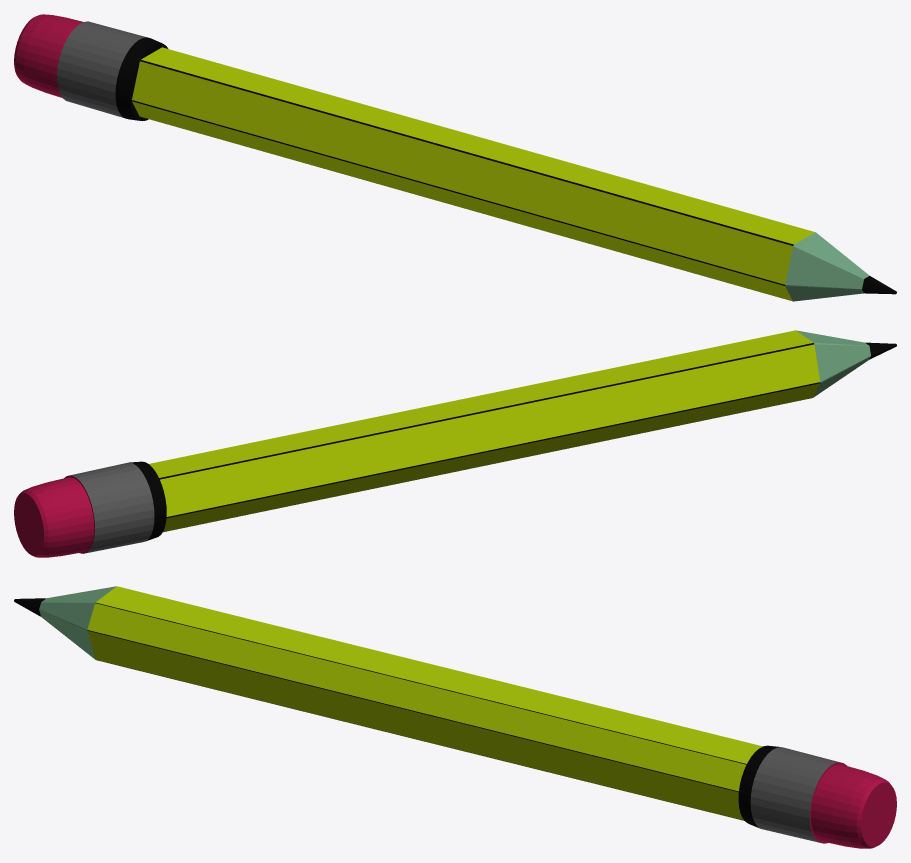
Rendered from Pencil.fbx.
3 views of the same model, one above another, from view 1: azimuth 90°, elevation 25°; view 2: azimuth 150°, elevation 25°; view 3: azimuth 270°, elevation 25° (orthographic). The views are drawn at different scales.
Parts seen in each view (by area): view 1: Pencil.003; view 2: Pencil.003; view 3: Pencil.003.
Part boxes in pixels (left/top/right/bottom): Pencil.003: left=14, top=14, right=896, bottom=301; Pencil.003: left=14, top=330, right=896, bottom=557; Pencil.003: left=14, top=586, right=896, bottom=848.
Bounding box in the file's own units: 77.56 × 11.97 × 120.
